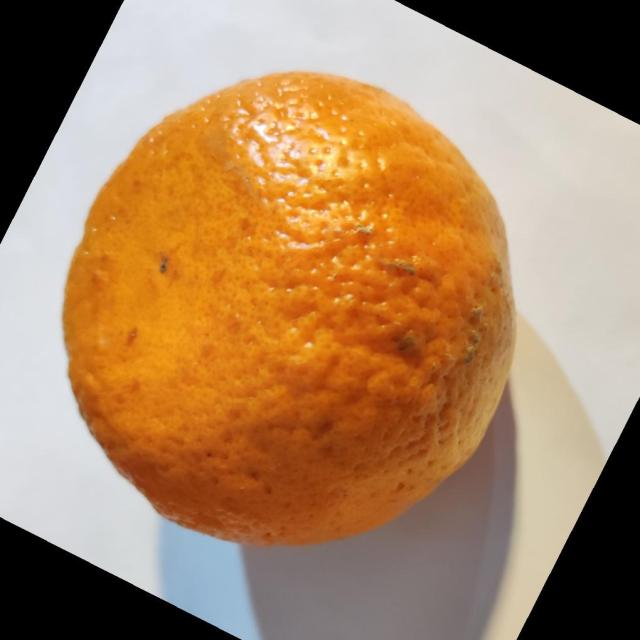fresh orange: (61, 69, 518, 547)
